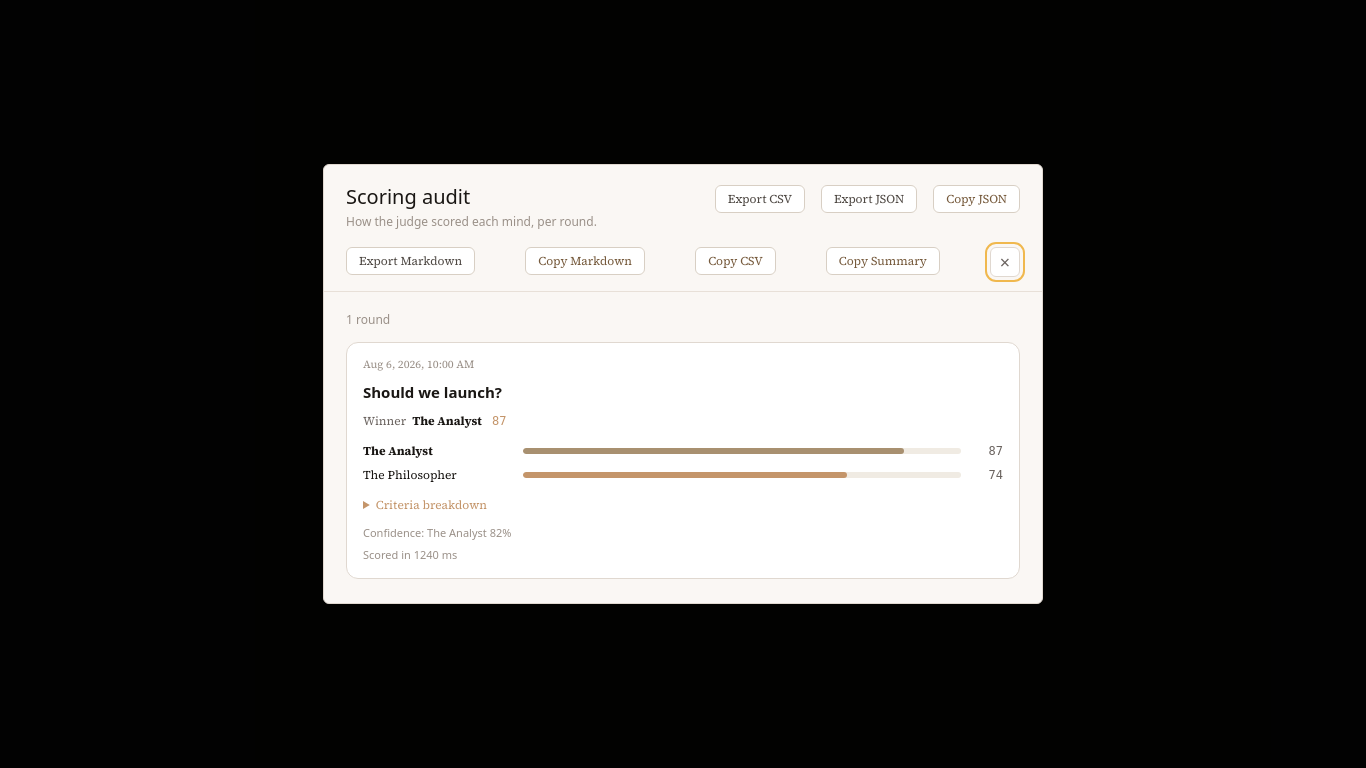
Test case: ScoringAuditModal › shows an error when the CSV export fails
Expected: the text "Should we launch?" is shown, [363,382,502,402]
Click the button with aria-label "export scoring audit as csv": (760,199) [715,185,805,213]
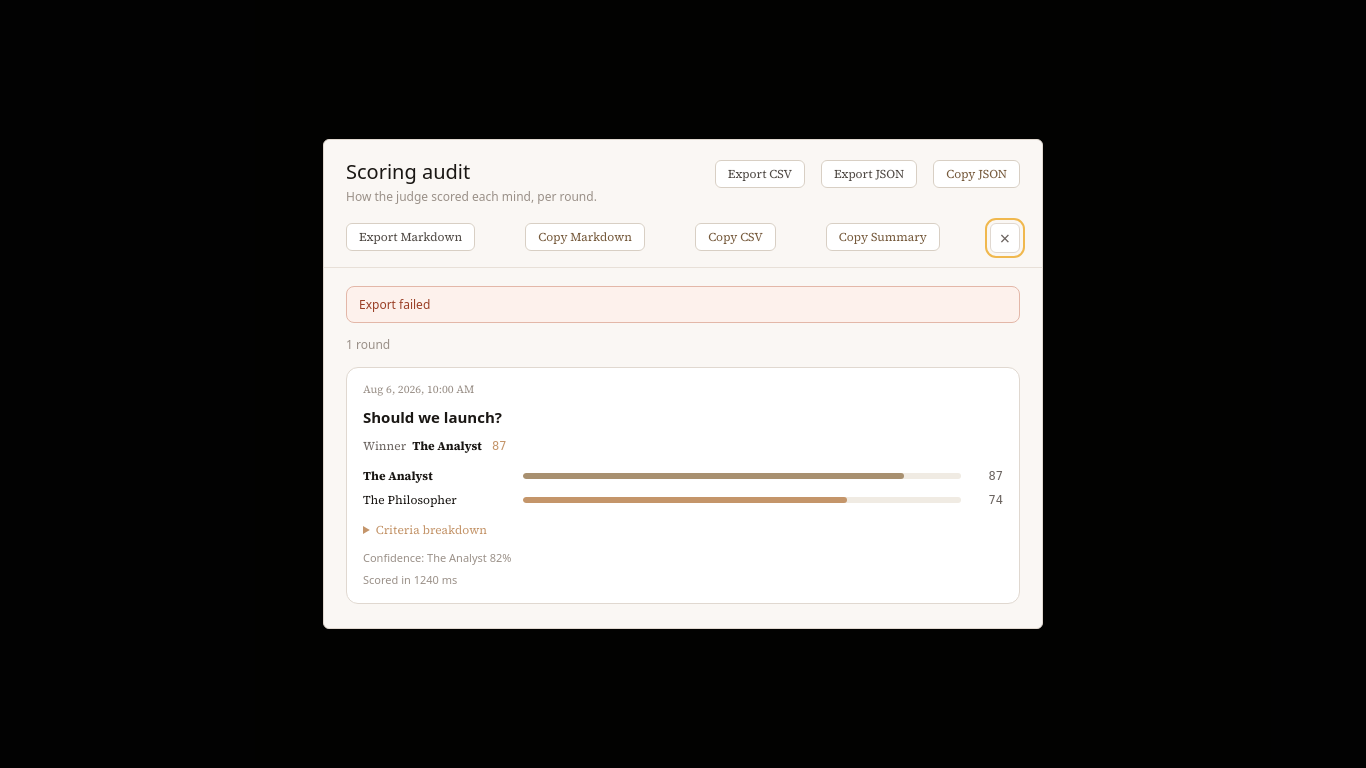
Result: the message reads "Export failed" at [359,296,430,313]
